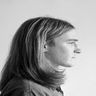ear: (33, 34, 55, 57)
